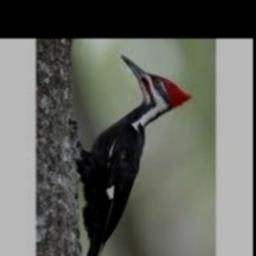Woodpecker: (75, 55, 193, 256)
